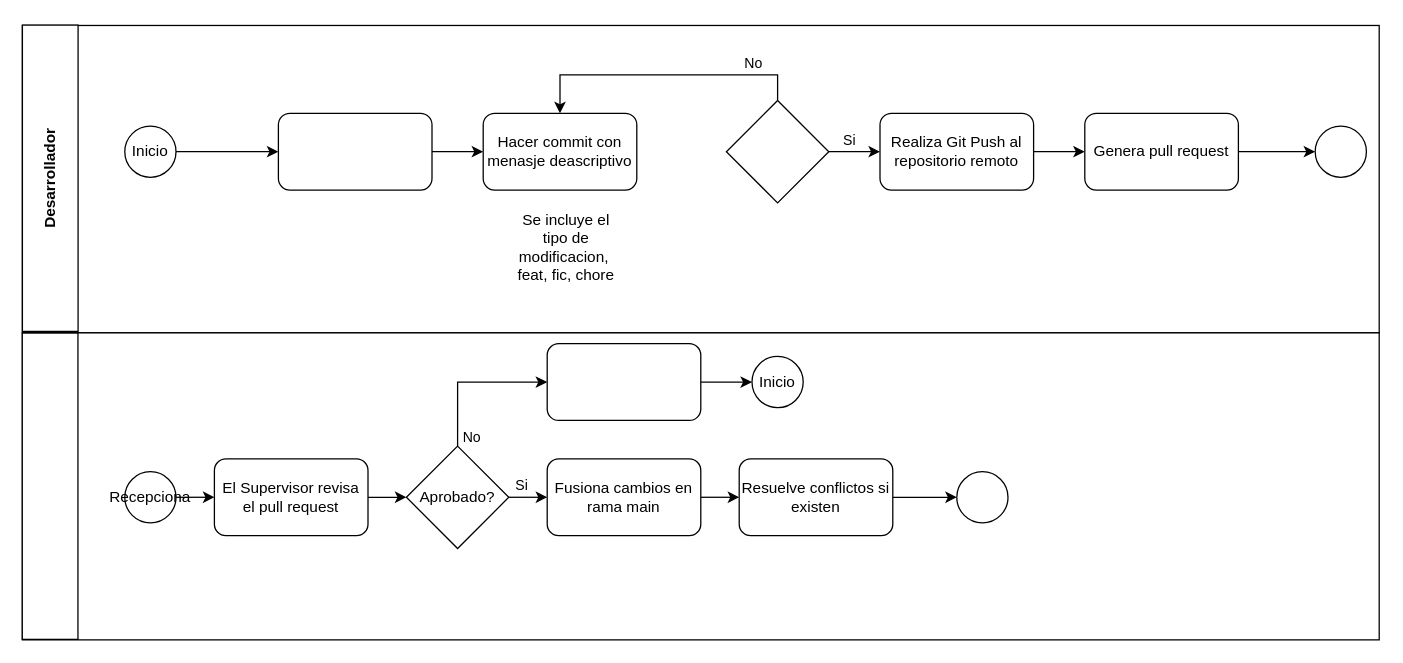
Image size: 1403x663. Some labels were removed from this diagram. The box of each missing label's shape, as (x1, y1, x2, y2) in pixels:
Envia: (1314, 125, 1366, 177)
Fin: (956, 470, 1008, 523)
Realiza cambios en el código: (277, 112, 432, 190)
Solicita cambios al desarrollar: (546, 342, 701, 420)
Supervisor: (21, 332, 78, 639)
¿El commit es correcto?: (725, 99, 829, 203)
